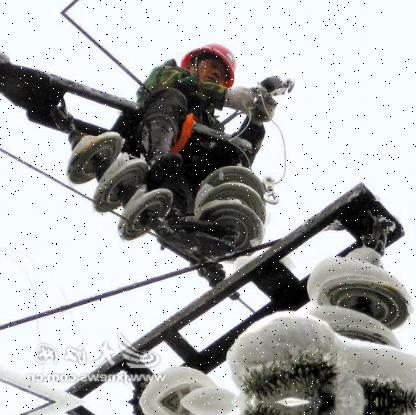helmet: (172, 29, 245, 99)
